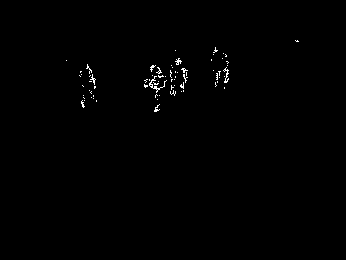person: (143, 65, 166, 114), (77, 63, 98, 109), (212, 47, 230, 88), (172, 58, 187, 94)
